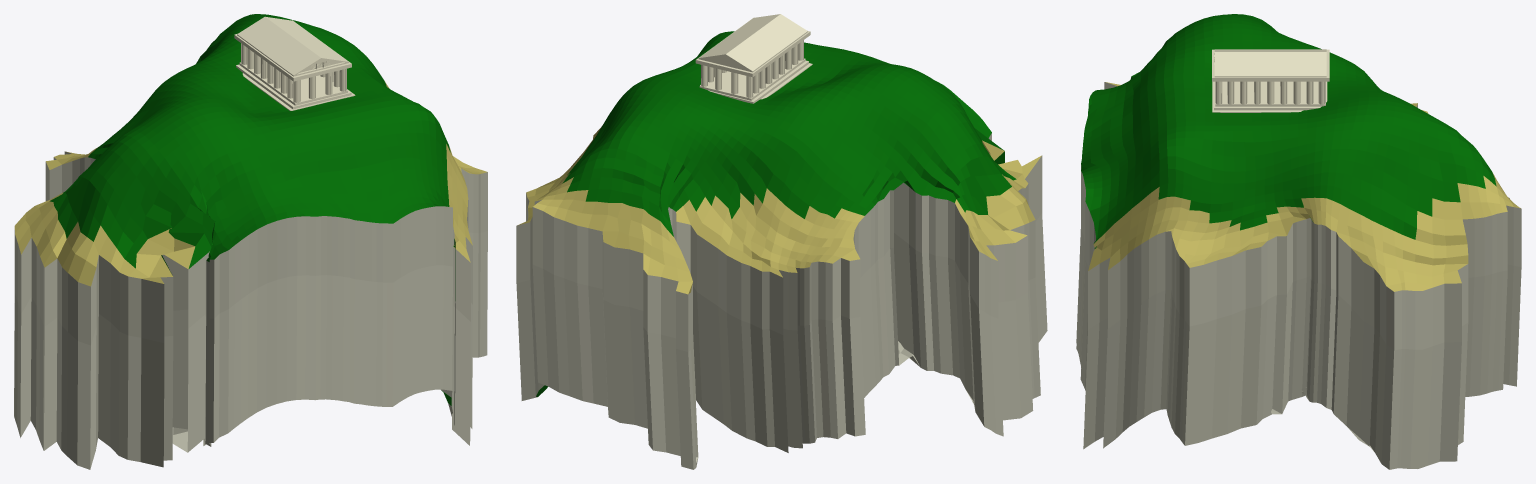
The model's file is ile_greks.glb.
The picture shows the model from 3 angles, left to right: view 1: azimuth 30°, elevation 25°; view 2: azimuth 150°, elevation 25°; view 3: azimuth 270°, elevation 25°; orthographic projection. The views are drawn at different scales.
Visible parts, largest first — view 1: Plan, Curve; view 2: Plan, Curve; view 3: Plan, Curve.
Boxes of the visible parts, x1,y1,x2,y2 form: Plan: (14,14,487,469); Curve: (234,16,355,110); Plan: (516,31,1047,469); Curve: (695,14,812,103); Plan: (1076,14,1521,469); Curve: (1212,49,1329,112).
Size of the model in its own units: 1.7 by 1.33 by 1.5.
